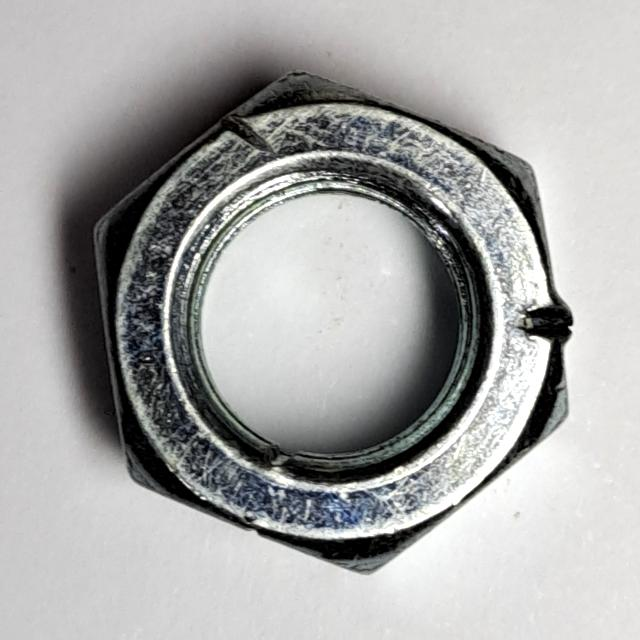Scratches: (77, 57, 594, 590)
